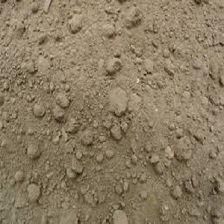sandy_soil: (5, 15, 205, 211)
